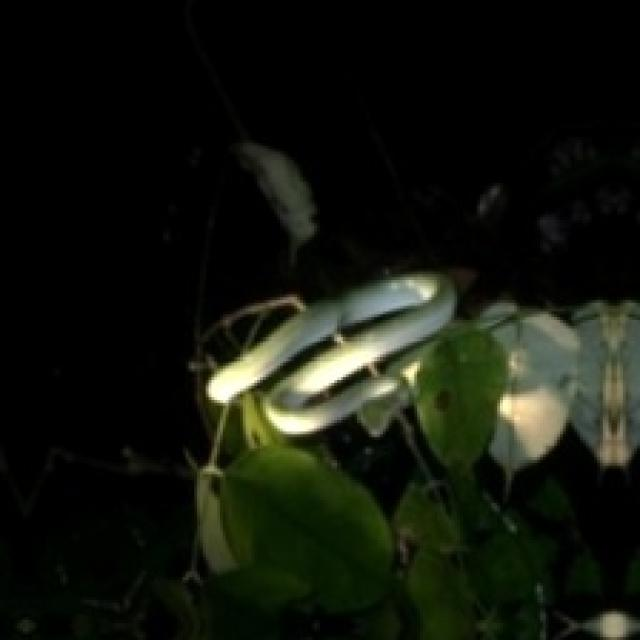north ph temple pitviper: (206, 271, 454, 431)
